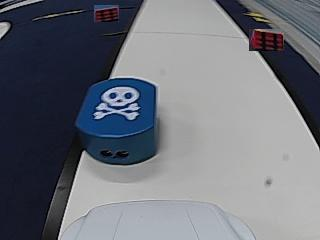danger: (93, 86, 137, 121)
